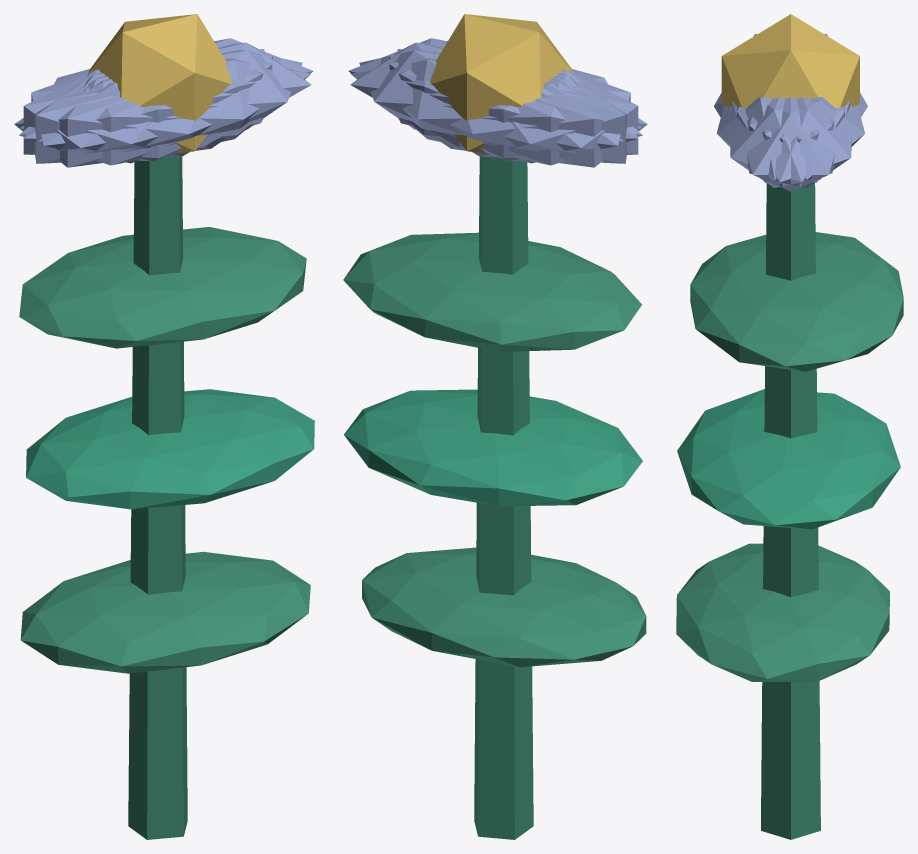
Rendered from hydrocotyle-sibthorpioides.glb.
3 views of the same model, side by side, from view 1: azimuth 30°, elevation 25°; view 2: azimuth 150°, elevation 25°; view 3: azimuth 270°, elevation 25° (orthographic).
Parts seen in each view (by area): view 1: stem, leaf0, leaf1, leaf2, center, petal1, petal6, petal2, petal5, petal7, petal0, petal4 (+2 smaller); view 2: stem, leaf2, leaf1, leaf0, center, petal8, petal3, petal7, petal4, petal2, petal0, petal5 (+2 smaller); view 3: leaf1, leaf2, leaf0, stem, center, petal0, petal4, petal5, petal1, petal8.
Part boxes in pixels (x1,y1,x2,y2): stem: [128, 156, 187, 839]; leaf0: [20, 551, 310, 673]; leaf1: [26, 389, 314, 509]; leaf2: [19, 227, 306, 348]; center: [88, 14, 231, 153]; petal1: [19, 58, 310, 165]; petal6: [14, 71, 225, 167]; petal2: [34, 49, 264, 163]; petal5: [38, 50, 302, 158]; petal7: [23, 55, 272, 161]; petal0: [87, 42, 311, 147]; petal4: [20, 38, 313, 138]; stem: [474, 156, 533, 839]; leaf2: [343, 232, 641, 351]; leaf1: [344, 389, 642, 506]; leaf0: [362, 547, 646, 667]; center: [430, 14, 573, 153]; petal8: [351, 58, 642, 165]; petal3: [436, 71, 647, 167]; petal7: [397, 49, 626, 163]; petal4: [359, 50, 623, 158]; petal2: [389, 55, 638, 161]; petal0: [350, 42, 574, 147]; petal5: [348, 38, 641, 138]; leaf1: [677, 389, 900, 529]; leaf2: [690, 232, 903, 371]; leaf0: [676, 543, 889, 681]; stem: [761, 183, 820, 839]; center: [721, 14, 859, 108]; petal0: [731, 97, 849, 191]; petal4: [737, 97, 851, 187]; petal5: [730, 97, 844, 187]; petal1: [716, 97, 834, 179]; petal8: [747, 97, 864, 179].
Bounding box in the file's own units: 0.1452 × 0.3885 × 0.1009.
